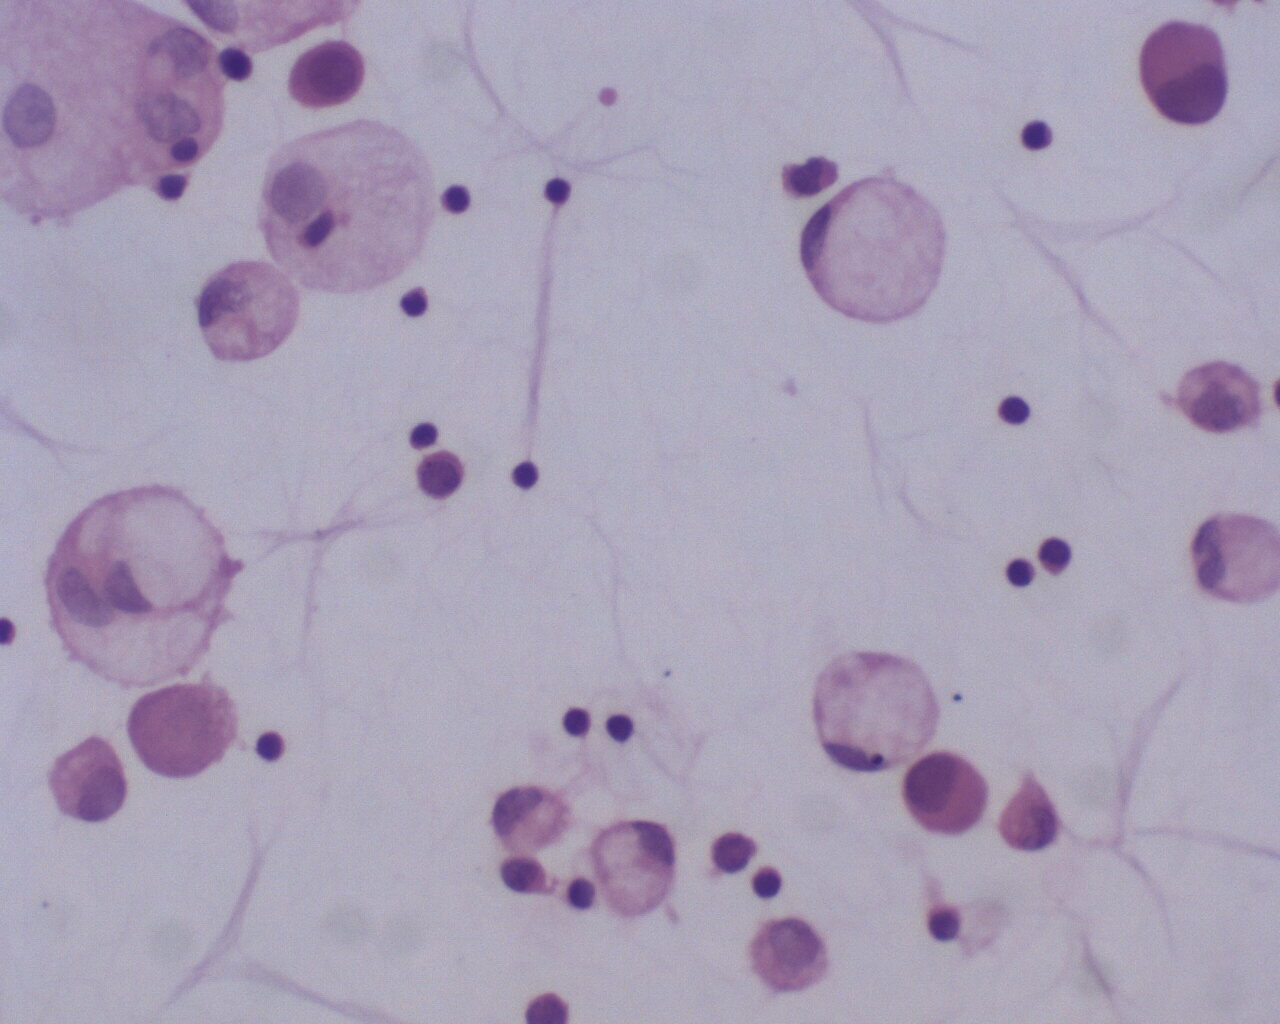ab: (34, 475, 242, 689), (1138, 18, 1241, 130), (287, 38, 371, 111)
histo: (257, 116, 439, 297), (795, 171, 951, 327), (806, 648, 945, 773), (185, 259, 309, 375), (584, 812, 678, 916)
lymph: (507, 456, 553, 501), (1017, 108, 1057, 157), (996, 387, 1035, 434), (747, 863, 793, 902), (538, 176, 580, 214), (598, 709, 639, 748), (253, 722, 290, 765), (1002, 551, 1039, 594)
meso: (903, 751, 994, 840)
